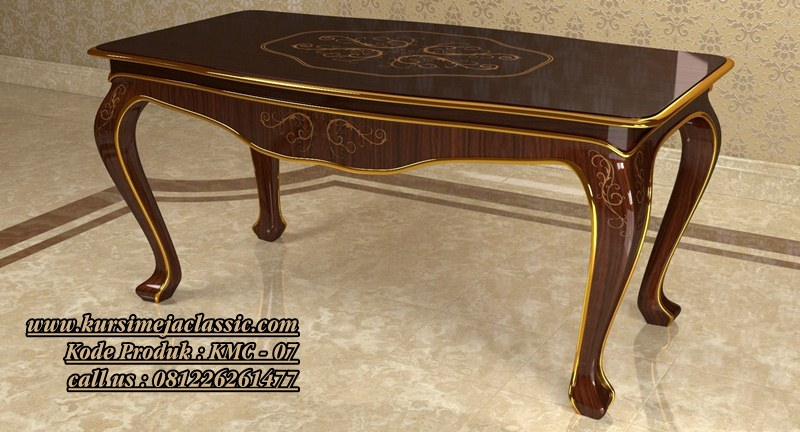Carving Table: (108, 20, 717, 424)
